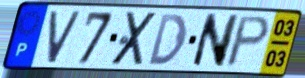7: (79, 9, 115, 66)
D: (147, 13, 189, 67)
N: (189, 12, 242, 69)
P: (223, 14, 273, 69)
V: (45, 9, 84, 65)
X: (108, 10, 161, 68)
